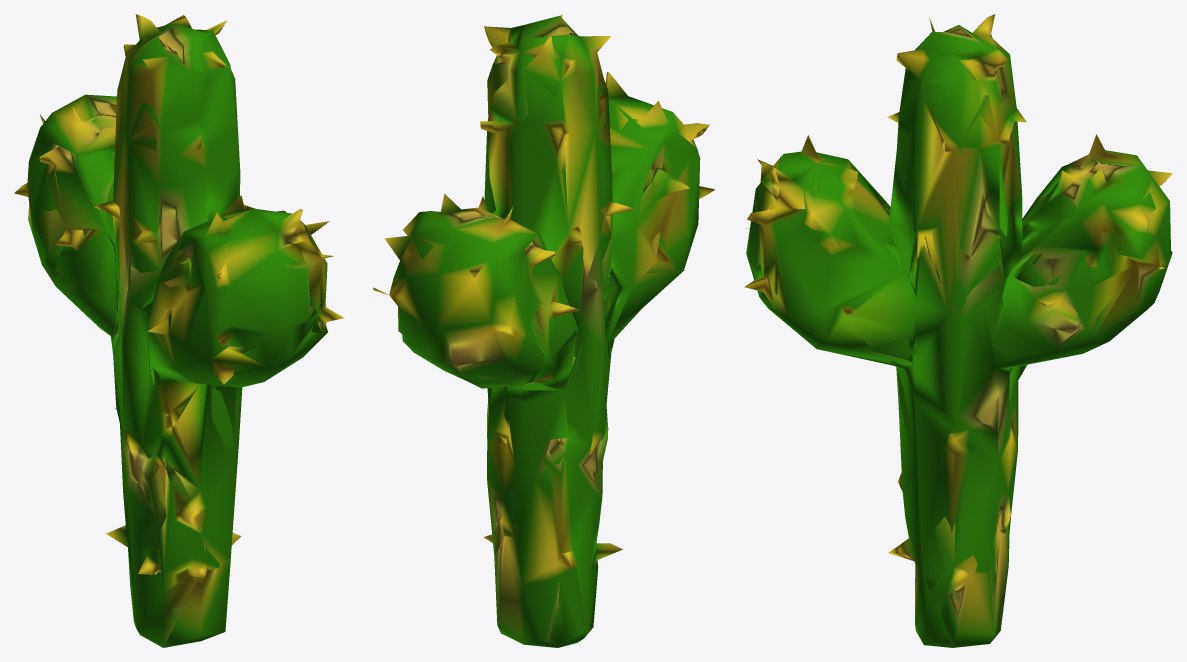
The model's file is gen3d-cholla-cactus-lod0.glb.
The picture shows the model from 3 angles, left to right: view 1: azimuth 30°, elevation 25°; view 2: azimuth 150°, elevation 25°; view 3: azimuth 270°, elevation 25°; orthographic projection.
Visible parts, largest first — view 1: part_0; view 2: part_0; view 3: part_0.
Boxes of the visible parts, bbox=[...] form: part_0: bbox=[14, 14, 343, 647]; part_0: bbox=[373, 14, 714, 647]; part_0: bbox=[744, 14, 1172, 647].
Size of the model in its own units: 0.2705 by 0.9967 by 0.6374.
